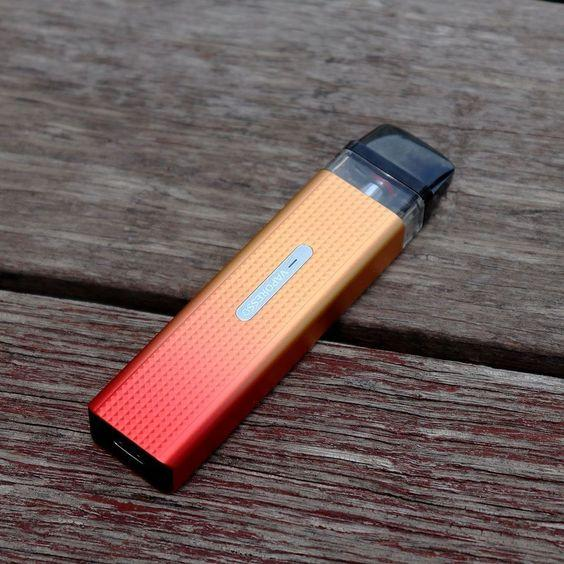Vape: (90, 124, 453, 488)
